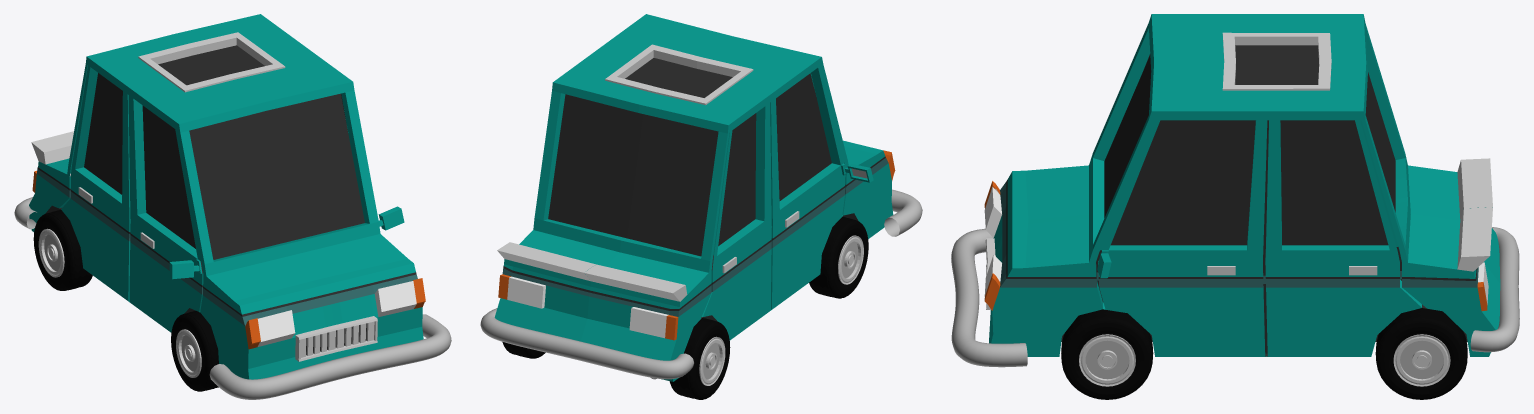
File: CR-TAXI-1B.fbx
3 views of the same model, side by side, from view 1: azimuth 30°, elevation 25°; view 2: azimuth 150°, elevation 25°; view 3: azimuth 270°, elevation 25° (orthographic). The views are drawn at different scales.
Parts seen in each view (by area): view 1: BODY, NurbsPath, WHEEL.004, WHEEL.001, NurbsPath.001; view 2: BODY, NurbsPath.001, WHEEL.001, WHEEL.004, NurbsPath; view 3: BODY, WHEEL.002, WHEEL.003, NurbsPath, NurbsPath.001.
Boxes of the visible parts, <box> form: BODY: <box>29,14,425,379</box>; NurbsPath: <box>209,314,451,399</box>; WHEEL.004: <box>33,210,92,290</box>; WHEEL.001: <box>171,311,218,391</box>; NurbsPath.001: <box>14,197,36,229</box>; BODY: <box>494,14,895,381</box>; NurbsPath.001: <box>480,308,693,379</box>; WHEEL.001: <box>809,217,868,298</box>; WHEEL.004: <box>669,318,730,399</box>; NurbsPath: <box>884,189,922,236</box>; BODY: <box>984,14,1500,356</box>; WHEEL.002: <box>1375,308,1467,399</box>; WHEEL.003: <box>1061,309,1153,399</box>; NurbsPath: <box>951,228,1027,367</box>; NurbsPath.001: <box>1470,227,1519,352</box>.
Size of the model in its own units: 131 by 135 by 242.
